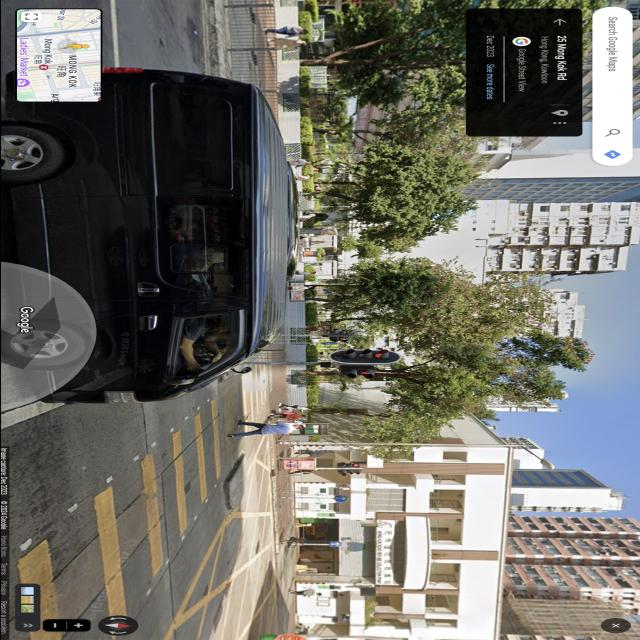Direction-Sign: (329, 542, 341, 546)
Order-Sign: (333, 496, 348, 502)
